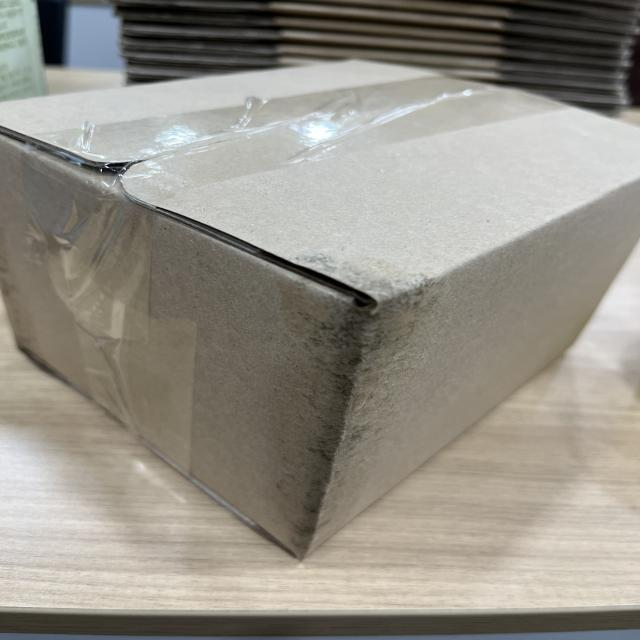wet: (284, 255, 430, 481)
